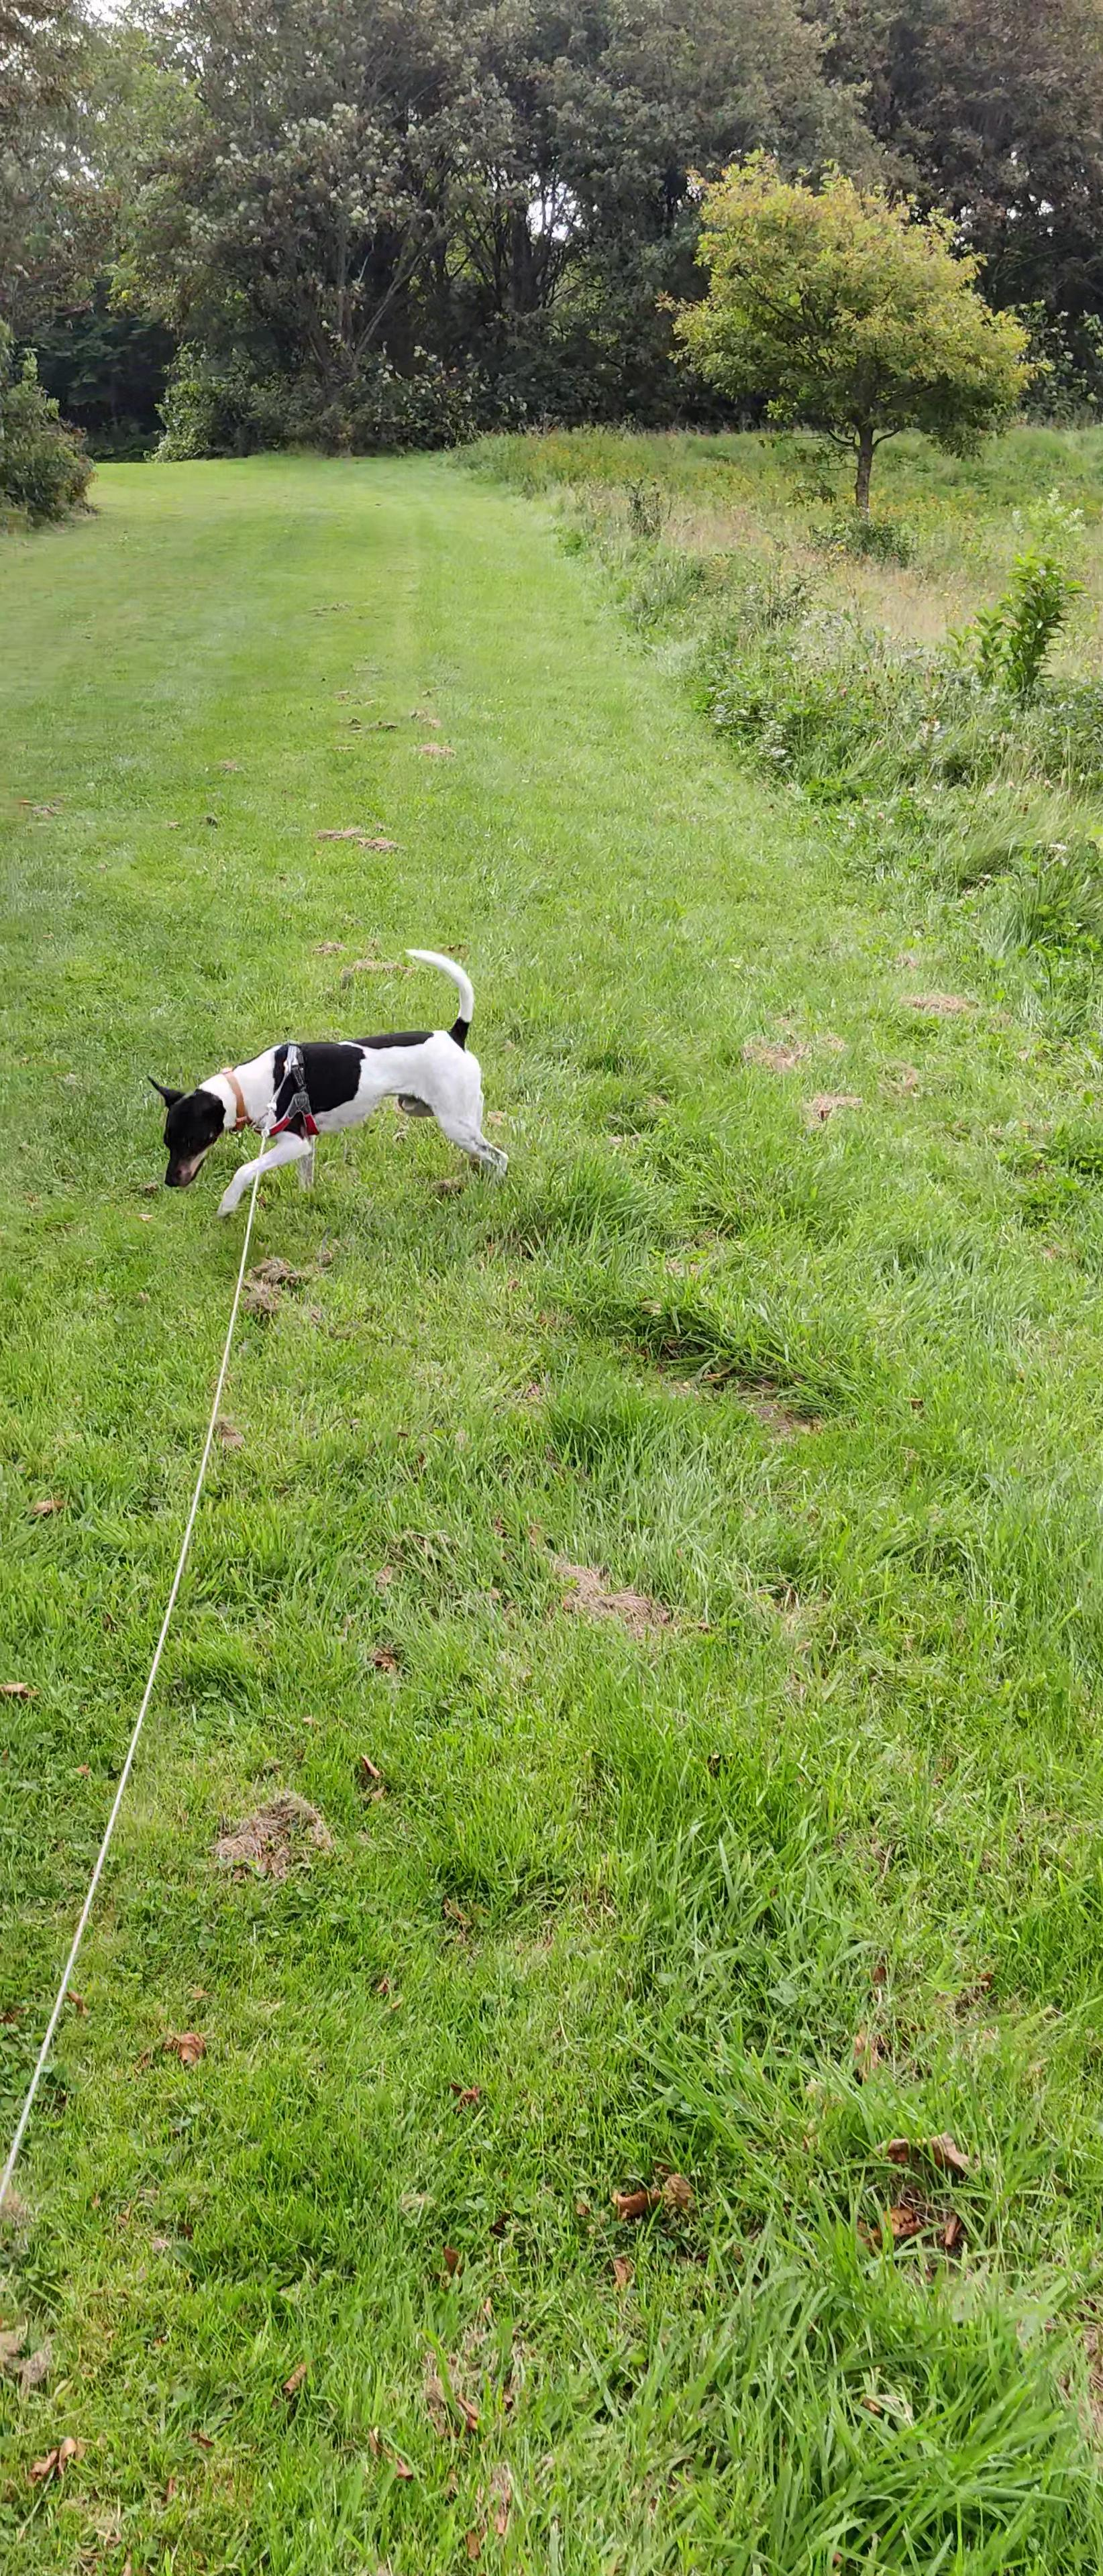Dog: (143, 945, 511, 1221)
